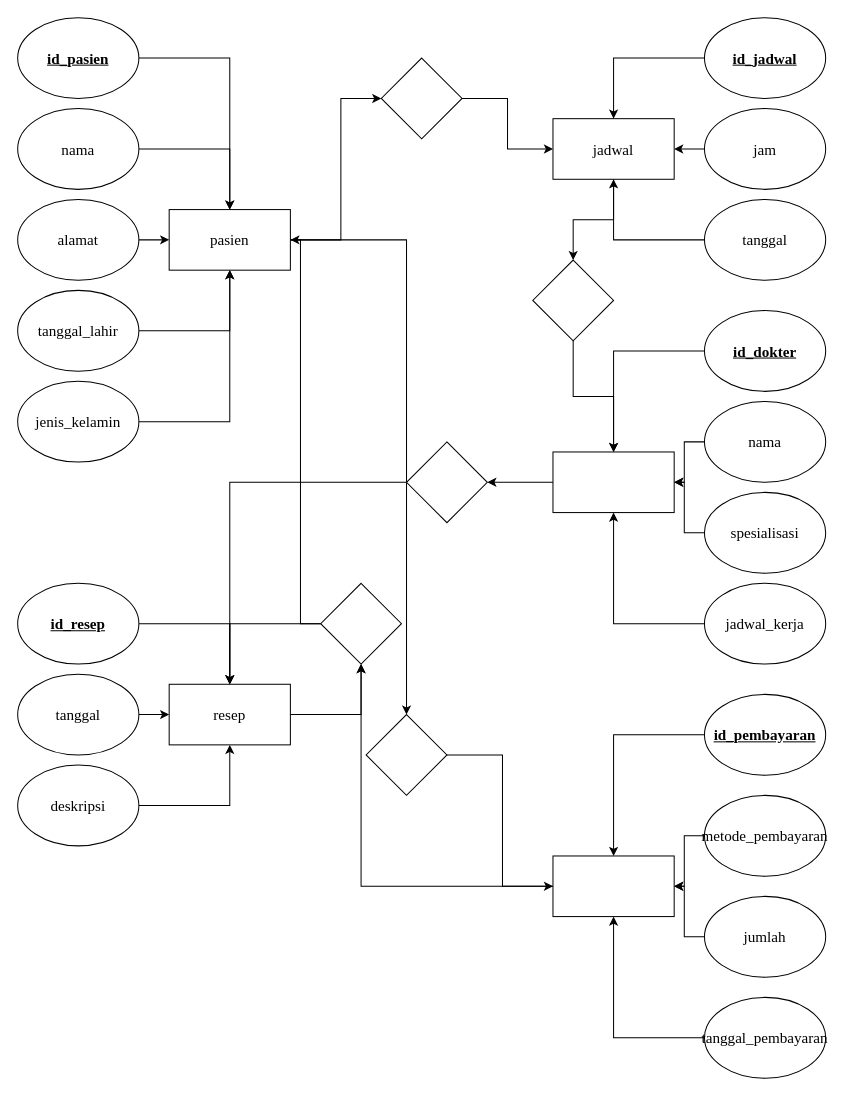
This 845x1096 diagram has some shape labels left out. The shapes that lost their labels are listed below. From the top down, each one's centre as x and y in pixels, then its label:
At (421,98): "mengajukan".
At (573,300): "diterima".
At (446,482): "menulis".
At (613,482): "dokter".
At (360,623): "mendapatakan".
At (406,754): "melakukan".
At (613,886): "pembayaran".
